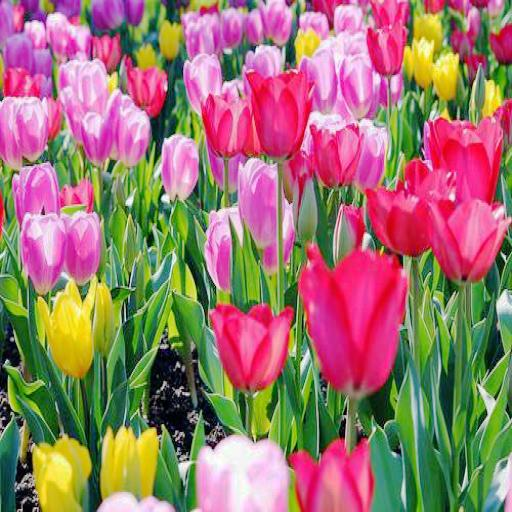tulip: (301, 244, 406, 394), (210, 302, 292, 388), (424, 200, 512, 277), (198, 438, 288, 512), (292, 436, 373, 512), (37, 280, 97, 372), (246, 66, 310, 152), (240, 155, 282, 246), (20, 214, 64, 290), (200, 95, 253, 154), (62, 211, 100, 281), (12, 164, 58, 220), (184, 54, 224, 115), (162, 134, 198, 198), (16, 98, 50, 158), (366, 25, 406, 72), (126, 68, 167, 109), (118, 106, 147, 163)
